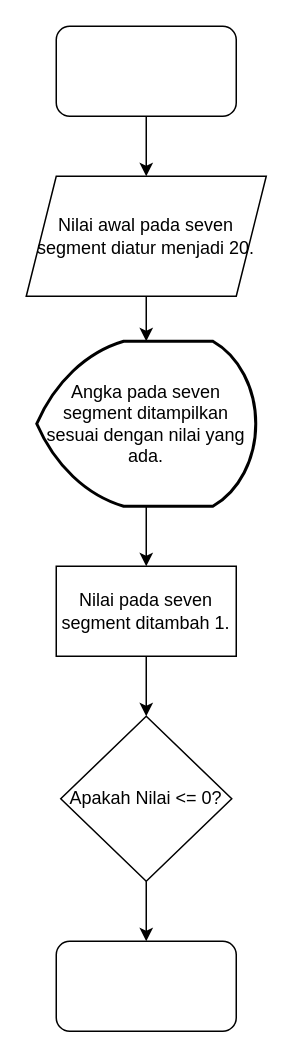
Image size: 293x1058. Some labels were removed from this diagram. The centre of each missing label's shape, as x and y in pixels:
"end" goes at (145,985).
"START" goes at (145,70).
